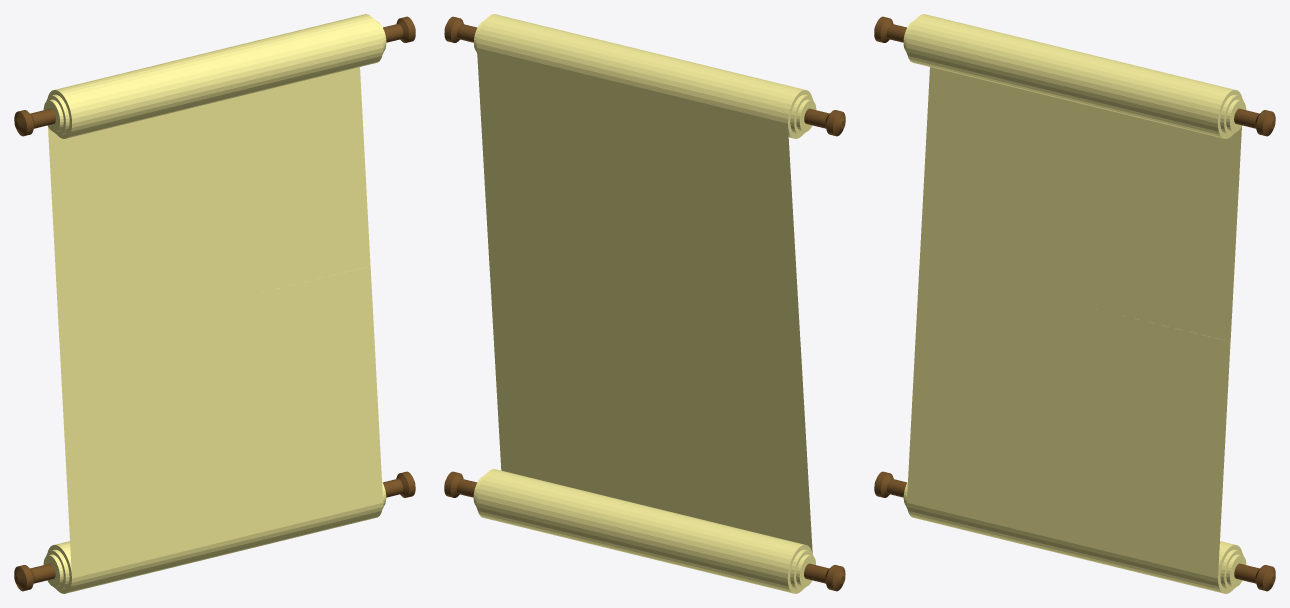
Rendered from Scroll.fbx.
The picture shows the model from 3 angles, left to right: view 1: azimuth 30°, elevation 25°; view 2: azimuth 150°, elevation 25°; view 3: azimuth 330°, elevation 25°; orthographic projection.
Visible parts, largest first — view 1: Scroll; view 2: Scroll; view 3: Scroll.
Boxes of the visible parts, x1,y1,x2,y2 form: Scroll: (14,14,415,593); Scroll: (444,14,845,593); Scroll: (874,14,1275,593).
Size of the model in its own units: 45.09 by 54.38 by 5.02.
